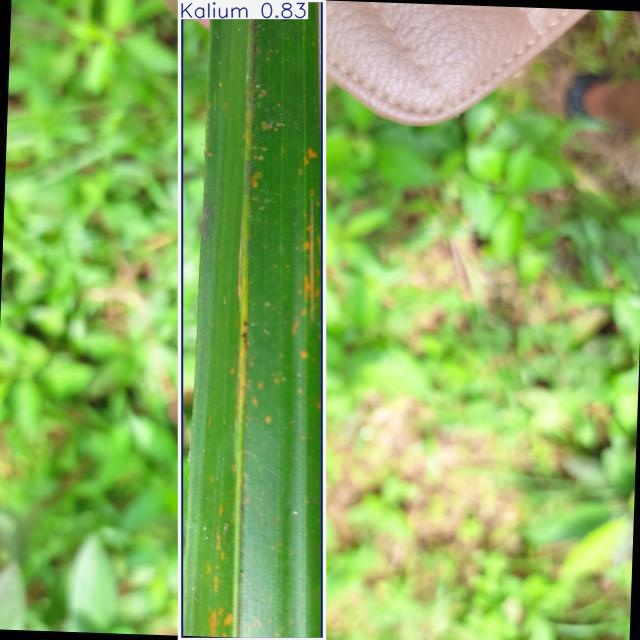Kalium: (180, 0, 325, 639)
nitrogen: (181, 0, 323, 640)
